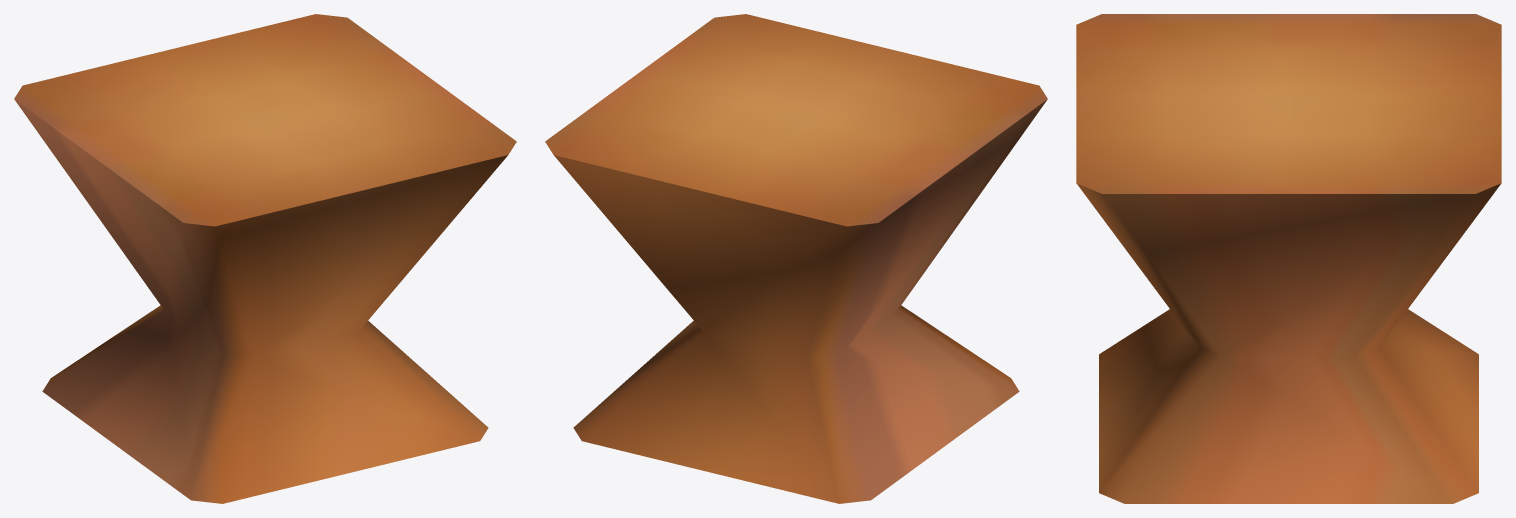
Rendered from obj_table1 (merge).fbx.
3 renders of one model, left to right at view 1: azimuth 30°, elevation 25°; view 2: azimuth 150°, elevation 25°; view 3: azimuth 270°, elevation 25°, orthographic. The views are drawn at different scales.
Parts seen in each view (by area): view 1: obj_table1; view 2: obj_table1; view 3: obj_table1.
Boxes of the visible parts, x1,y1,x2,y2 form: obj_table1: [14, 14, 516, 503]; obj_table1: [545, 14, 1047, 503]; obj_table1: [1076, 14, 1501, 503].
Bounding box in the file's own units: 0.9749 × 0.8083 × 0.9749.
Materials: 1 (1 with a texture image).
